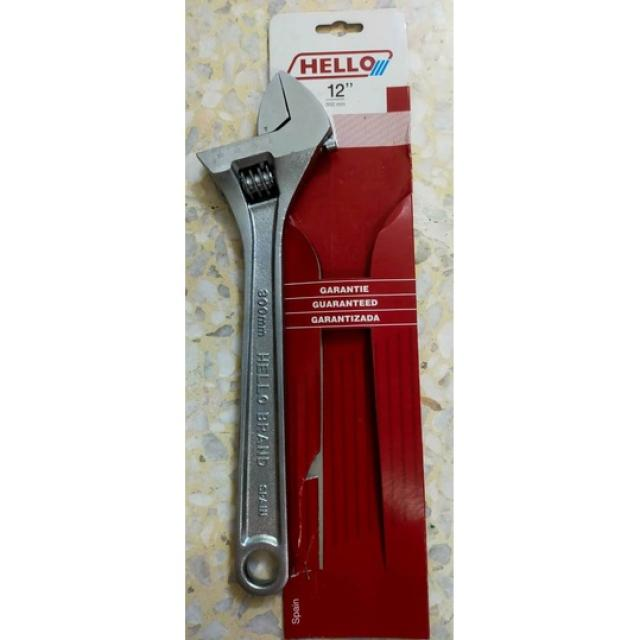Dry: (196, 69, 345, 586)
